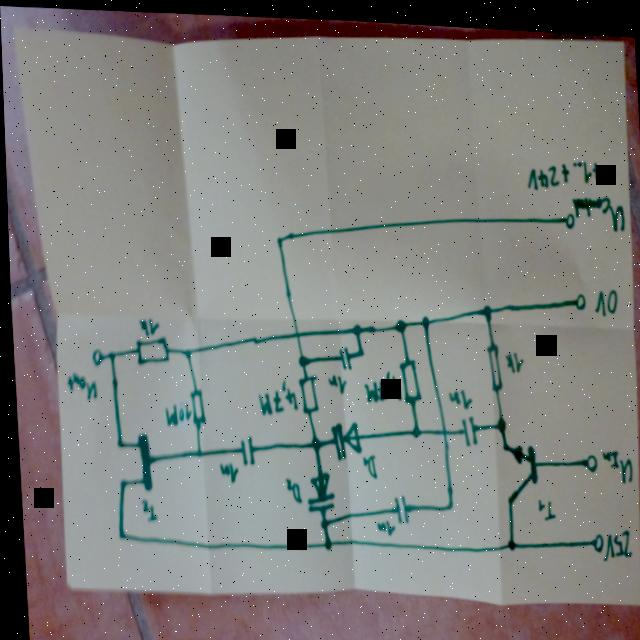capacitor: (456, 410, 477, 444), (234, 433, 253, 465), (389, 490, 407, 521), (335, 342, 351, 369)
crossover: (290, 325, 300, 338), (437, 421, 446, 434)
diode: (325, 415, 360, 459), (301, 468, 333, 512)
junction: (479, 296, 492, 317), (492, 410, 504, 429), (307, 432, 319, 450), (392, 313, 405, 329), (296, 351, 308, 366), (349, 319, 361, 333), (418, 310, 429, 325), (319, 534, 330, 548), (190, 443, 200, 458), (316, 515, 326, 528), (273, 232, 283, 245), (409, 422, 419, 434), (181, 345, 191, 357), (114, 529, 123, 541), (106, 348, 114, 361), (504, 534, 512, 546), (443, 496, 451, 507), (355, 345, 363, 355)
resistor: (395, 352, 420, 402), (132, 334, 169, 366), (483, 337, 502, 387), (295, 370, 317, 413), (186, 386, 204, 425)
terminal: (580, 446, 596, 467), (587, 526, 601, 547), (88, 347, 102, 366), (572, 286, 585, 305), (563, 205, 574, 224)
text: (524, 151, 602, 188), (569, 187, 625, 226), (253, 376, 297, 415), (360, 365, 400, 402), (597, 441, 631, 480), (597, 520, 630, 557), (63, 371, 97, 403), (160, 398, 191, 427), (590, 280, 618, 311), (445, 384, 471, 407), (533, 491, 554, 518), (281, 473, 300, 502), (216, 458, 237, 483), (502, 345, 523, 369), (357, 450, 376, 476), (136, 497, 155, 523), (136, 316, 159, 337), (325, 369, 345, 393), (371, 514, 393, 533)
transistor: (111, 429, 152, 493), (498, 435, 537, 499)
